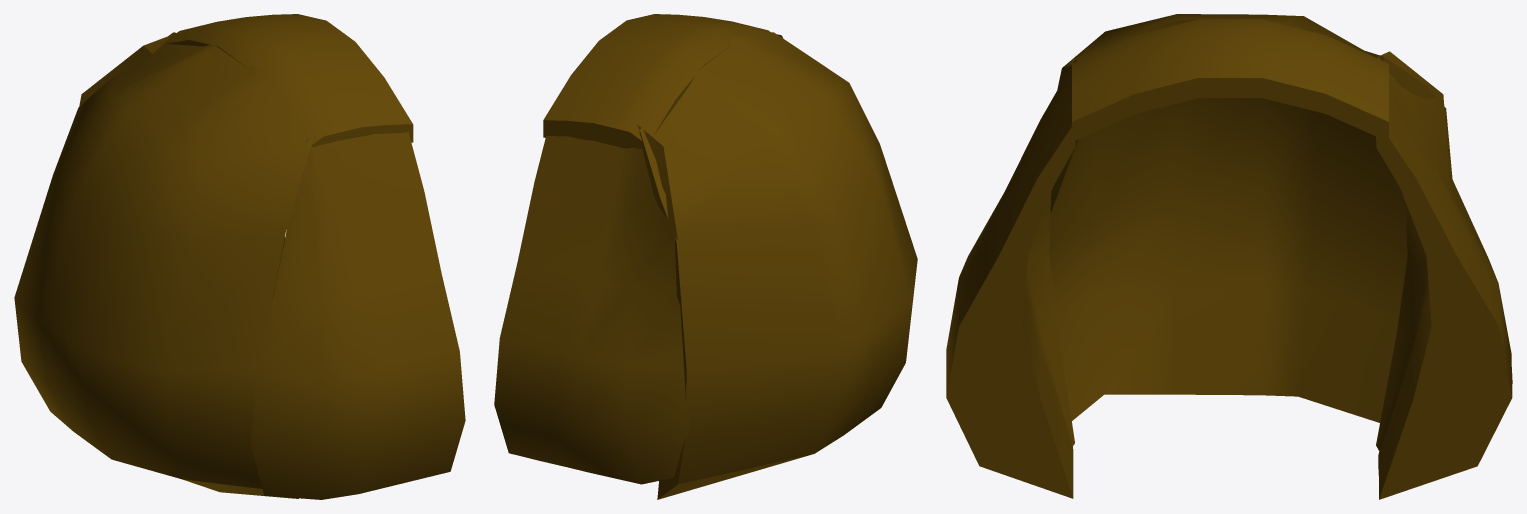
Rendered from BouncyHair.fbx.
The picture shows the model from 3 angles, left to right: view 1: azimuth 30°, elevation 25°; view 2: azimuth 150°, elevation 25°; view 3: azimuth 270°, elevation 25°; orthographic projection. The views are drawn at different scales.
Visible parts, largest first — view 1: BouncyHair; view 2: BouncyHair; view 3: BouncyHair.
Boxes of the visible parts, box(x1,y1,x2,y2) form: BouncyHair: box(14, 14, 465, 499); BouncyHair: box(494, 14, 917, 499); BouncyHair: box(946, 14, 1512, 499).
Bounding box in the file's own units: 6.82 × 9.13 × 10.63.
